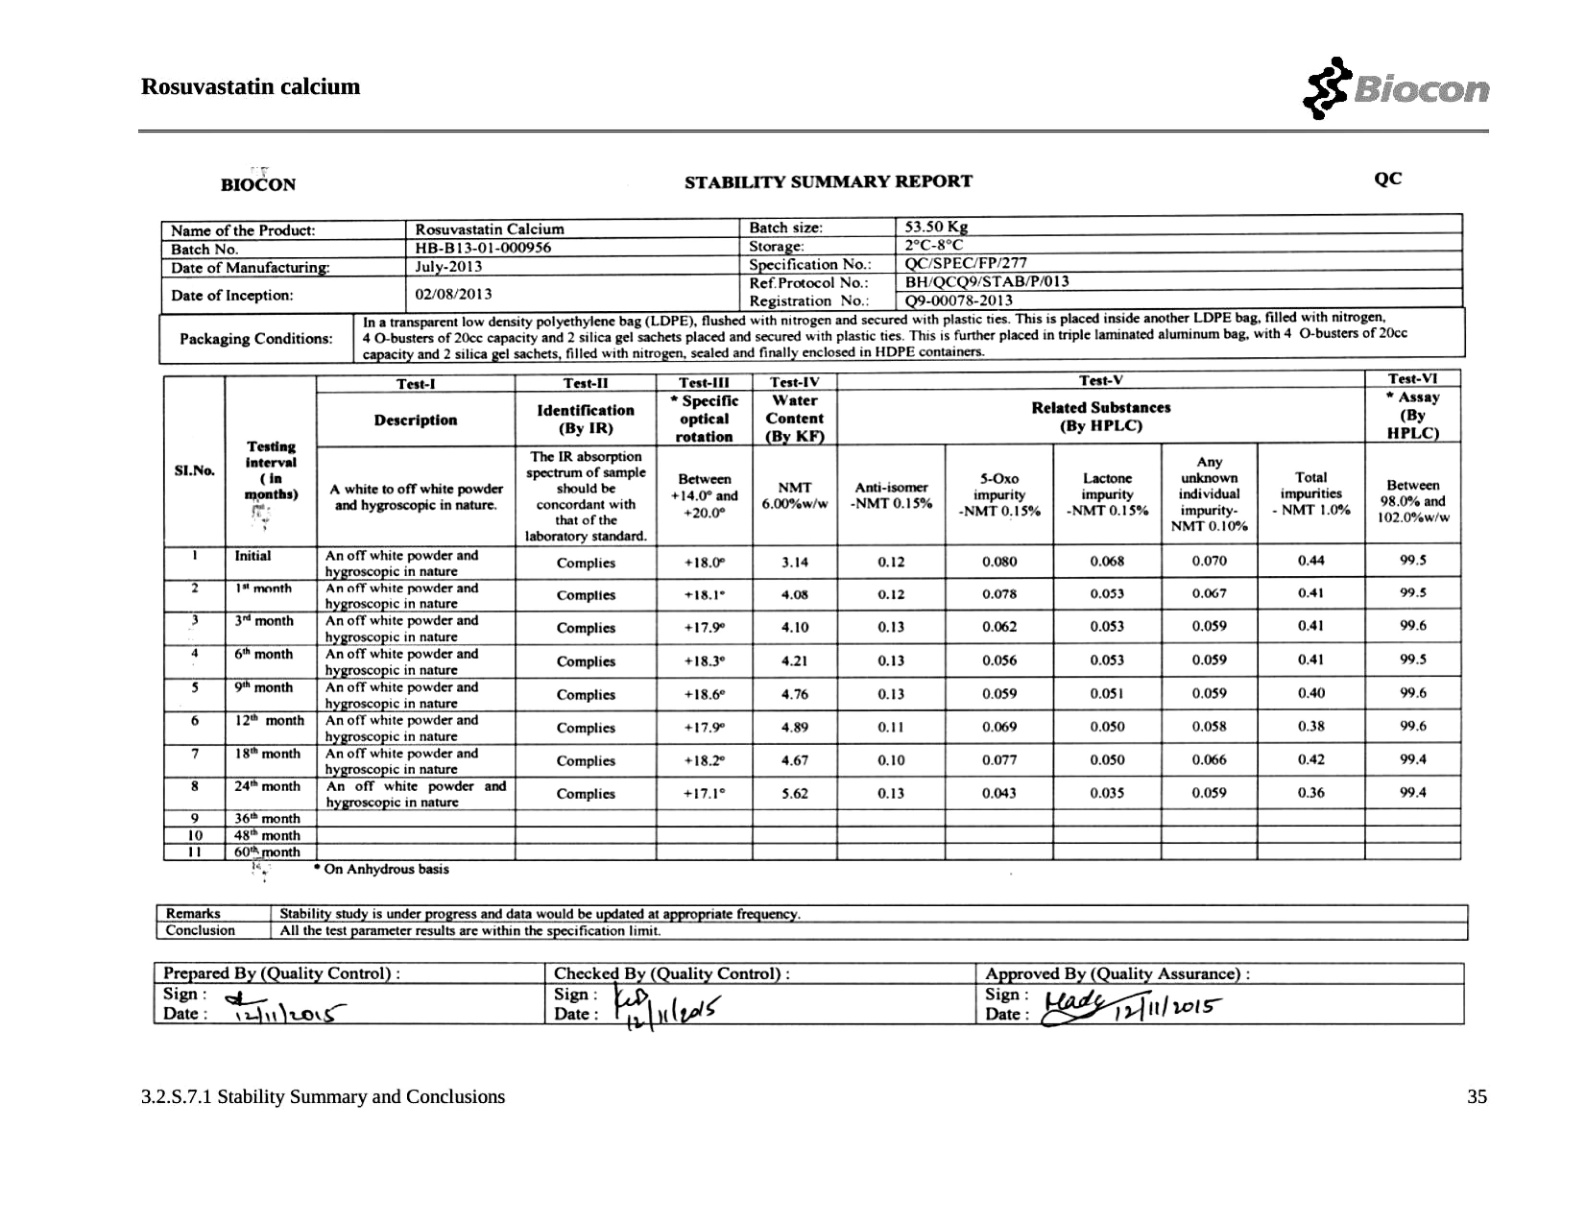full_lined: (152, 960, 1466, 1025), (156, 903, 1469, 941)
merged_cells: (162, 368, 1463, 861), (158, 211, 1466, 365)
